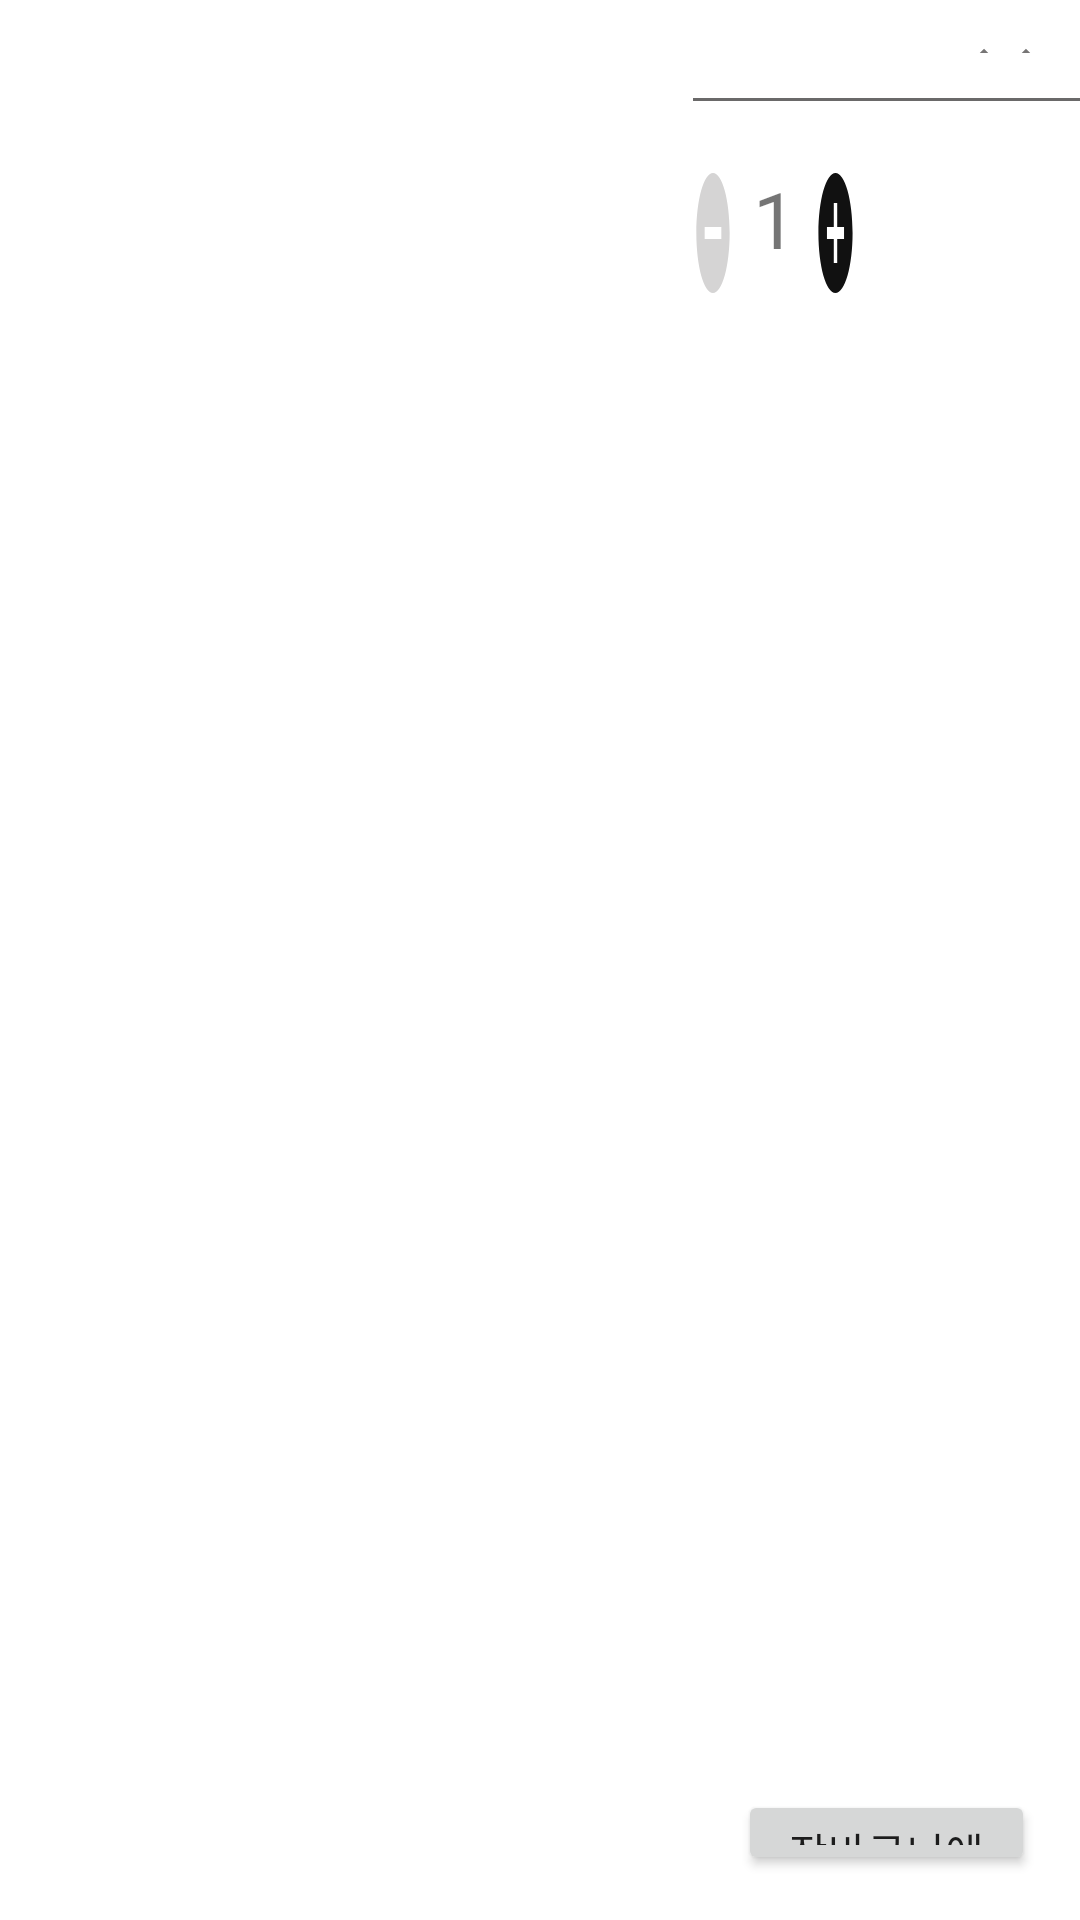

Icon click points for this 1080w x 1920h phone screenshot, format point (x, y):
add circle: point (835, 233)
remove circle unactivate: point (713, 233)
